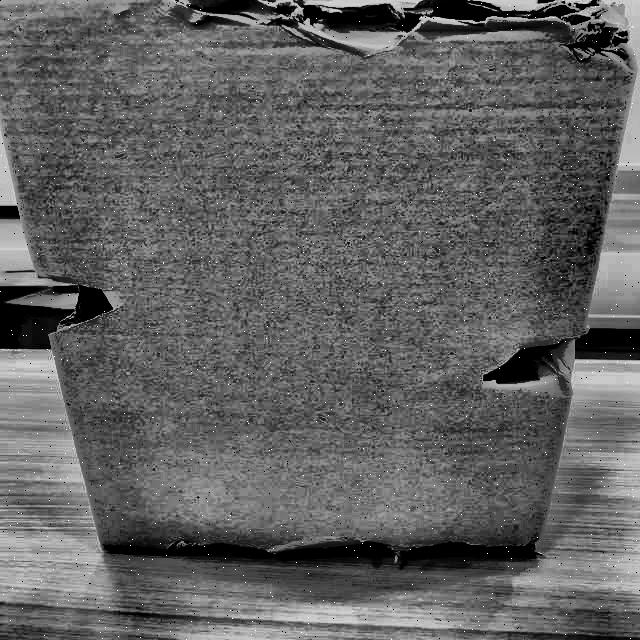box: (1, 0, 640, 567)
hole: (196, 0, 613, 40), (151, 529, 540, 561), (456, 337, 568, 398), (44, 272, 128, 341)
